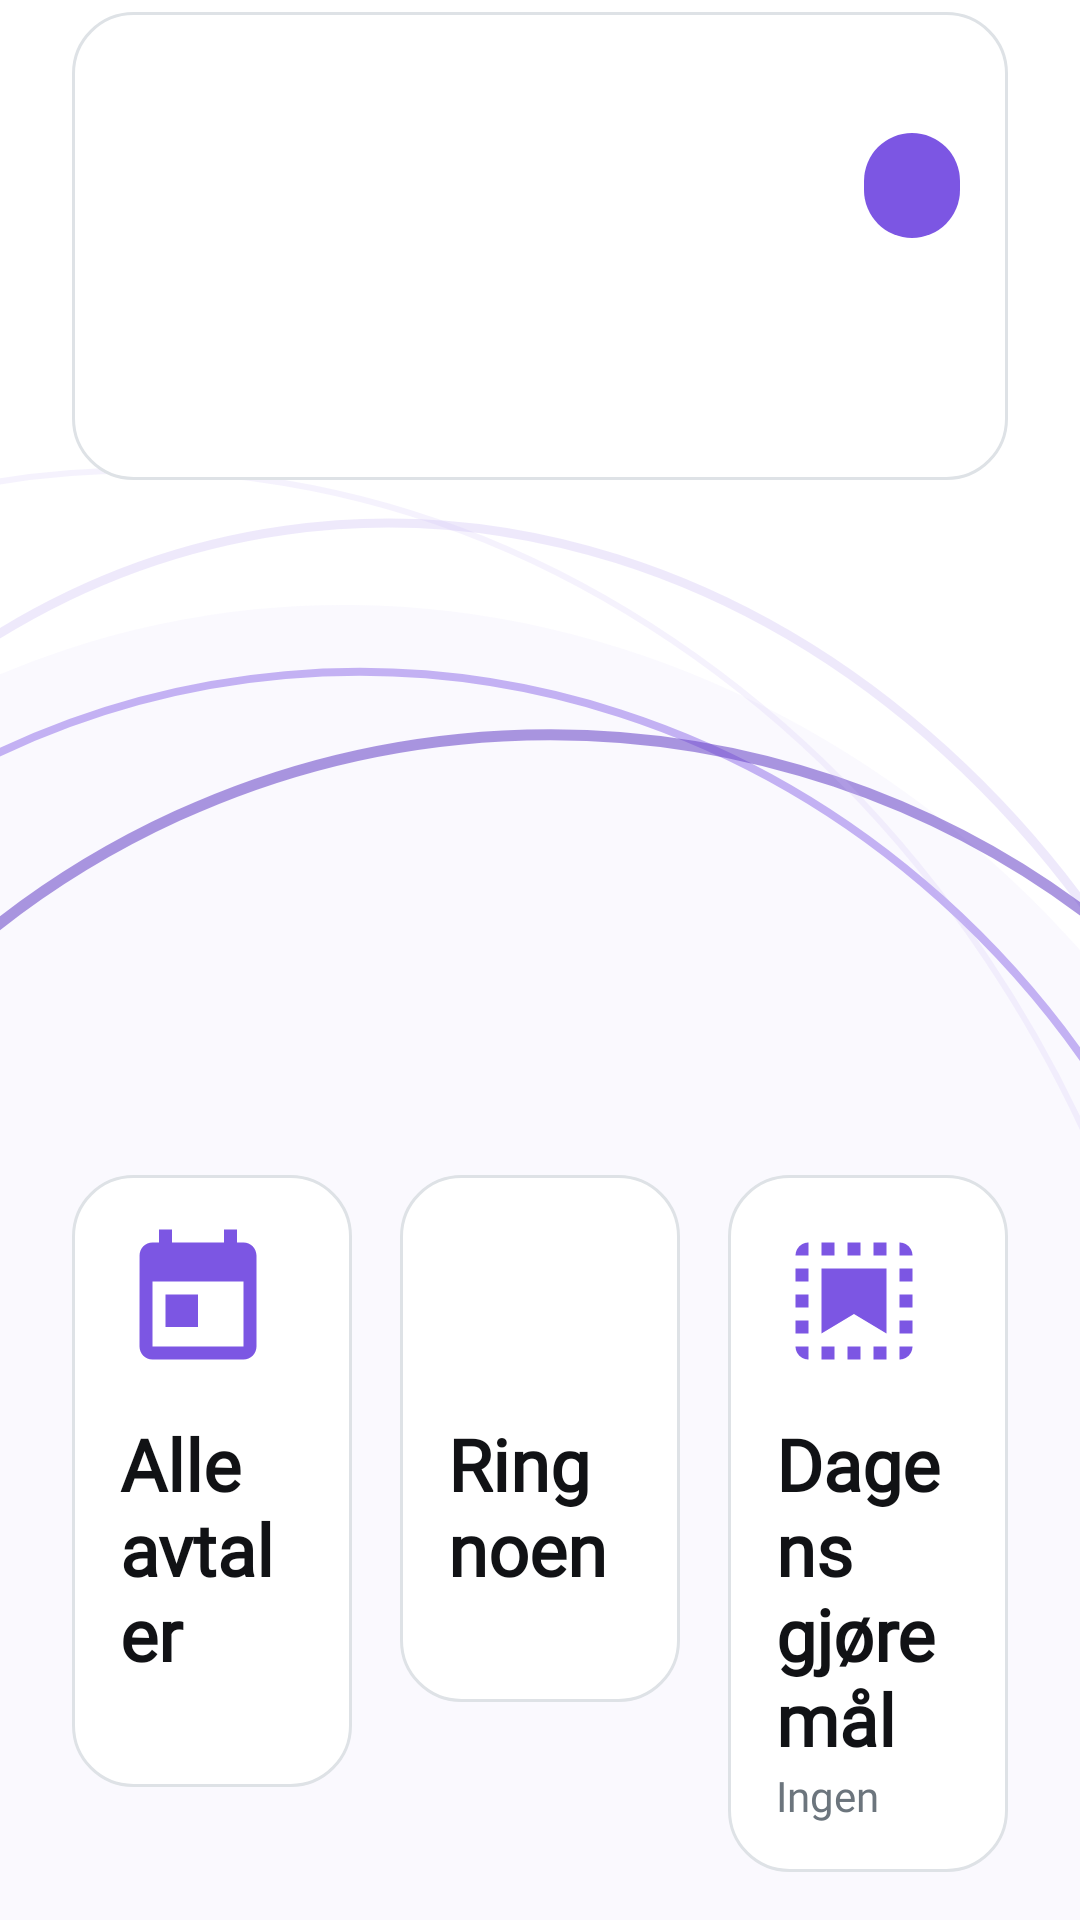

Point at icon controls on the screen. Image size 1080w x 1920h, points as point (x, y).
calendar: point (198, 1294)
